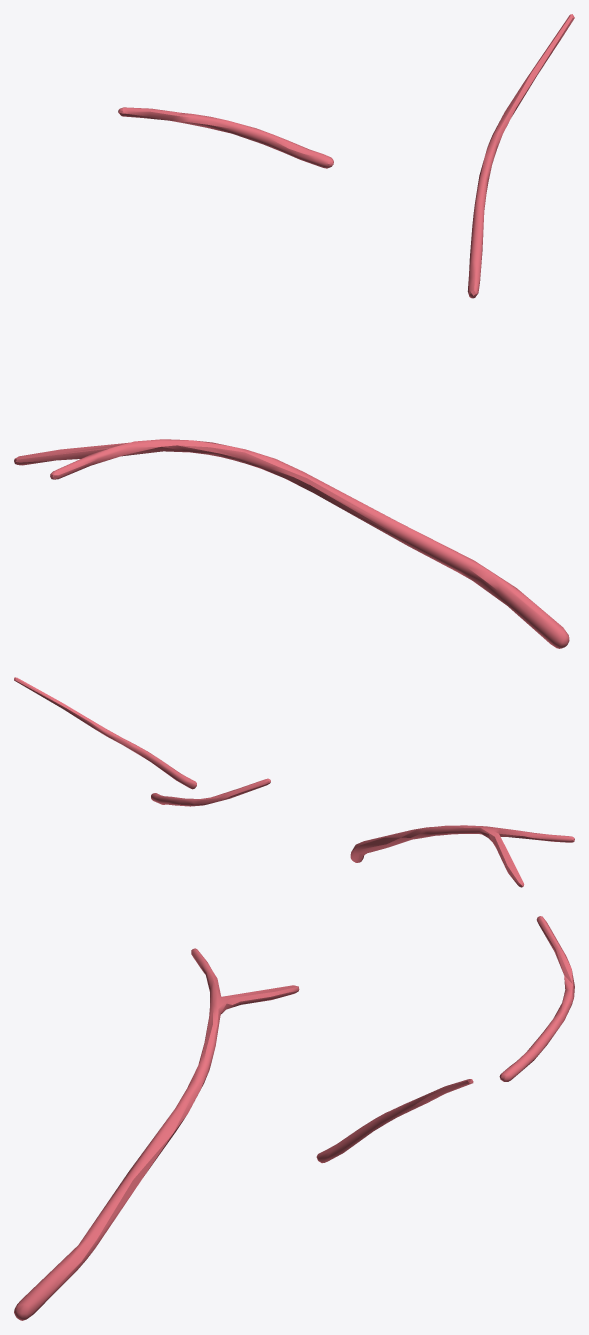
Rendered from fma70445_fj4557.glb.
The picture shows the model from 3 angles, top to bottom: view 1: azimuth 30°, elevation 25°; view 2: azimuth 150°, elevation 25°; view 3: azimuth 270°, elevation 25°; orthographic projection. The views are drawn at different scales.
Visible parts, largest first — view 1: FMA70445_FJ4557; view 2: FMA70445_FJ4557; view 3: FMA70445_FJ4557.
Boxes of the visible parts, x1,y1,x2,y2 form: FMA70445_FJ4557: (14,14,574,648); FMA70445_FJ4557: (14,677,574,887); FMA70445_FJ4557: (14,916,574,1320).
Size of the model in its own units: 0.0466 by 0.0258 by 0.0369.
